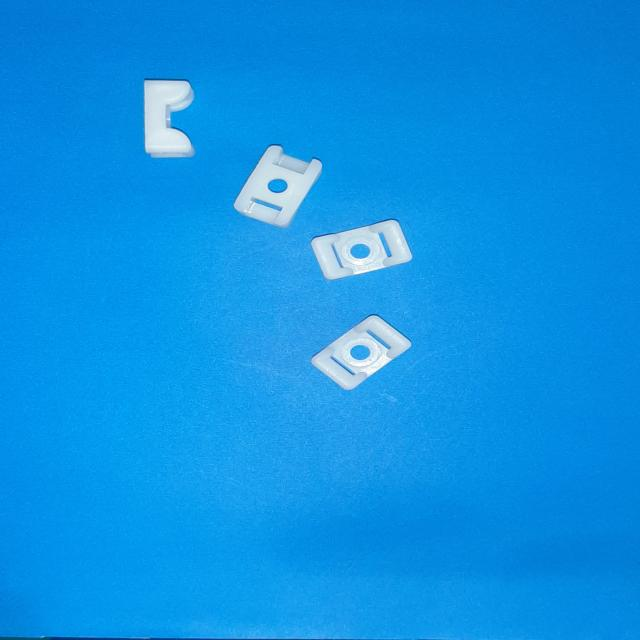false_1: (233, 145, 322, 228)
false_2: (145, 80, 195, 158)
true: (312, 315, 412, 390), (312, 220, 412, 280)
true_center: (350, 244, 370, 259), (350, 345, 370, 360)
